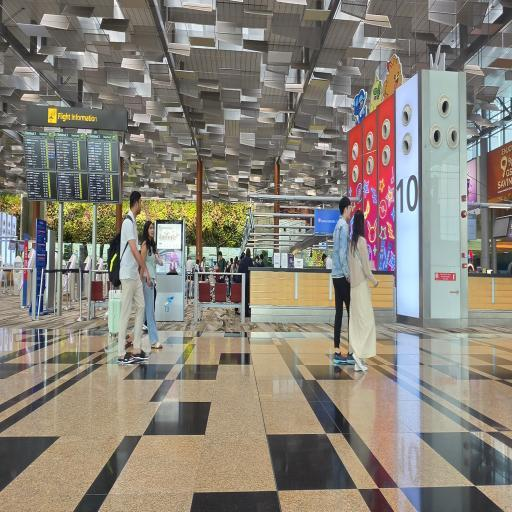person_right: (111, 180, 147, 368), (328, 196, 358, 372), (350, 204, 375, 374), (140, 210, 162, 357)
